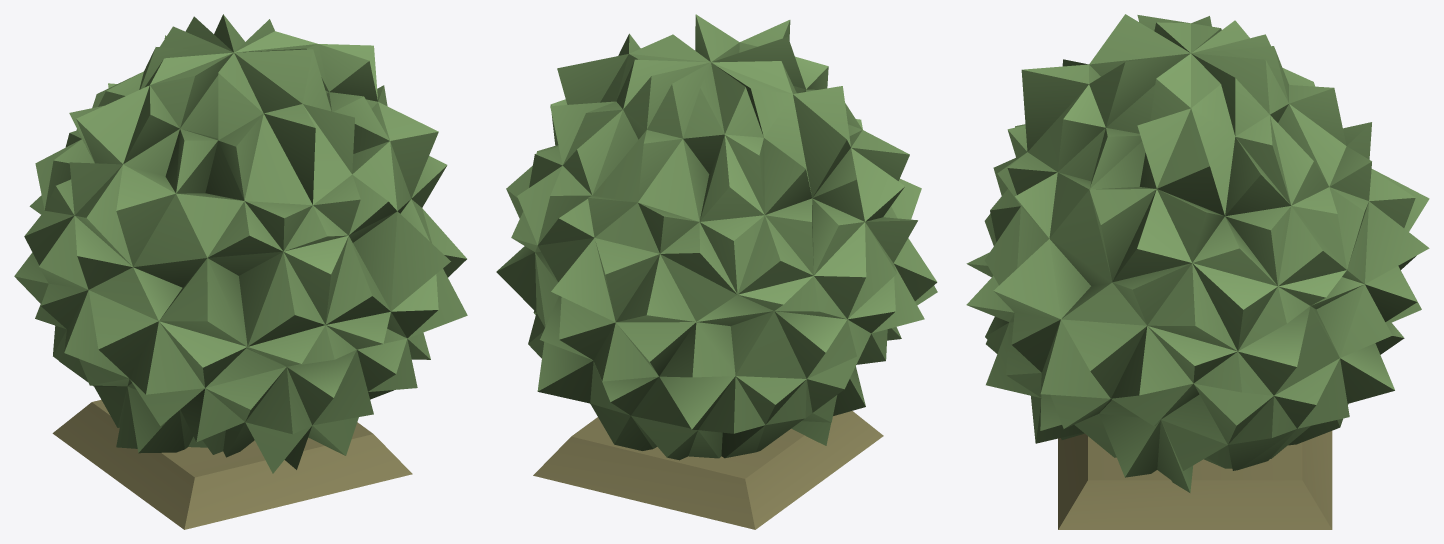
Rendered from shrub.glb.
The picture shows the model from 3 angles, left to right: view 1: azimuth 30°, elevation 25°; view 2: azimuth 150°, elevation 25°; view 3: azimuth 270°, elevation 25°; orthographic projection. The views are drawn at different scales.
Visible parts, largest first — view 1: shrub; view 2: shrub; view 3: shrub.
Boxes of the visible parts, x1=… form: shrub: x1=14, y1=14, x2=467, y2=529; shrub: x1=496, y1=14, x2=937, y2=529; shrub: x1=966, y1=14, x2=1429, y2=529.
Bounding box in the file's own units: 1.14 × 1.17 × 1.13.
